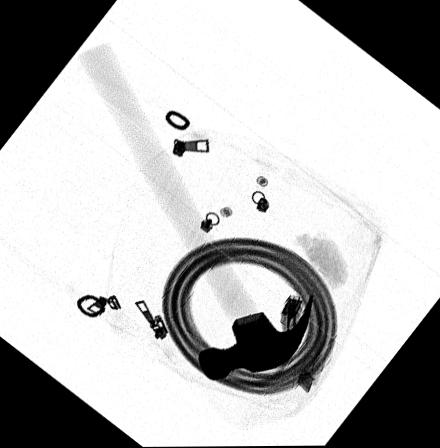Hammer: (78, 40, 314, 380)
